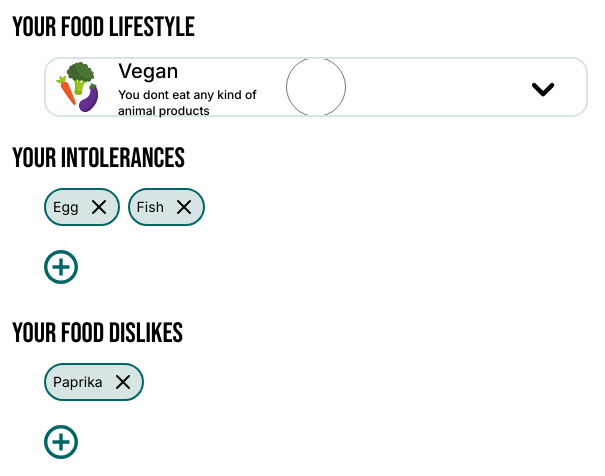
Test case: WeekplanSettings › clicks on food dislikes and removes it
Click the link with test id "remove-paprika" at [123, 382], box top-left (111, 370), bottom-right (135, 394)
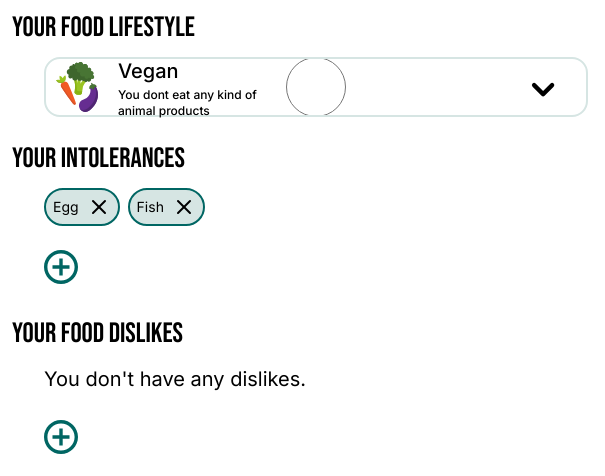
Expected: the text "You don't have any dislikes." is shown, top-left (44, 367), bottom-right (306, 391)
